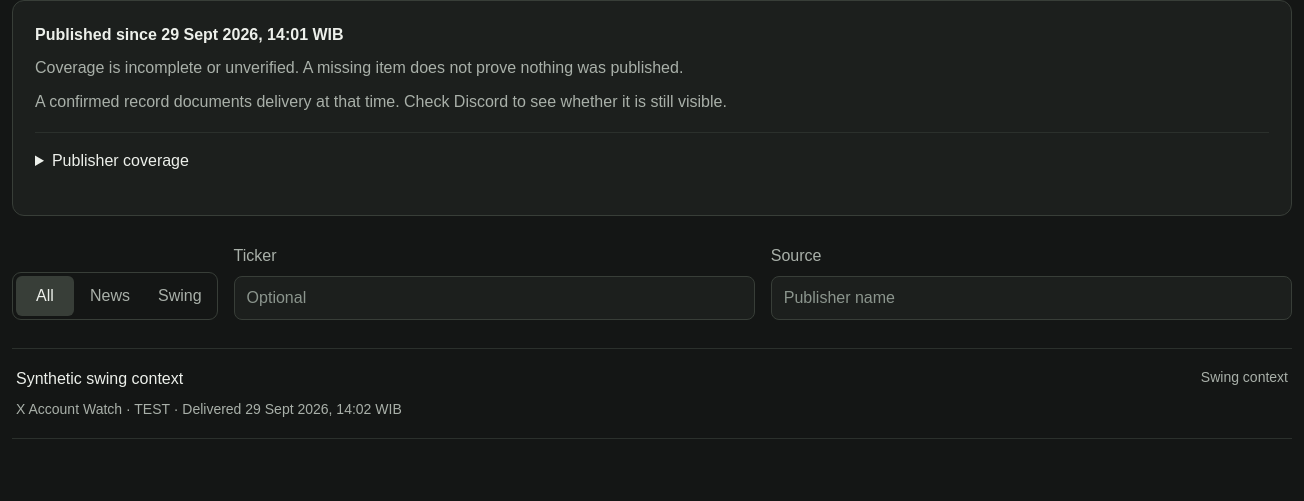
Test case: labels context separately and warns when a publisher checkpoint is unknown
Expected: the text "Swing context" is shown, [1201,367,1288,388]
Expected: the text "Coverage is incomplete or unverified" is shown, [35,59,683,76]
Click the heading "Publisher coverage".
click(120, 161)  # box [52,152,189,169]
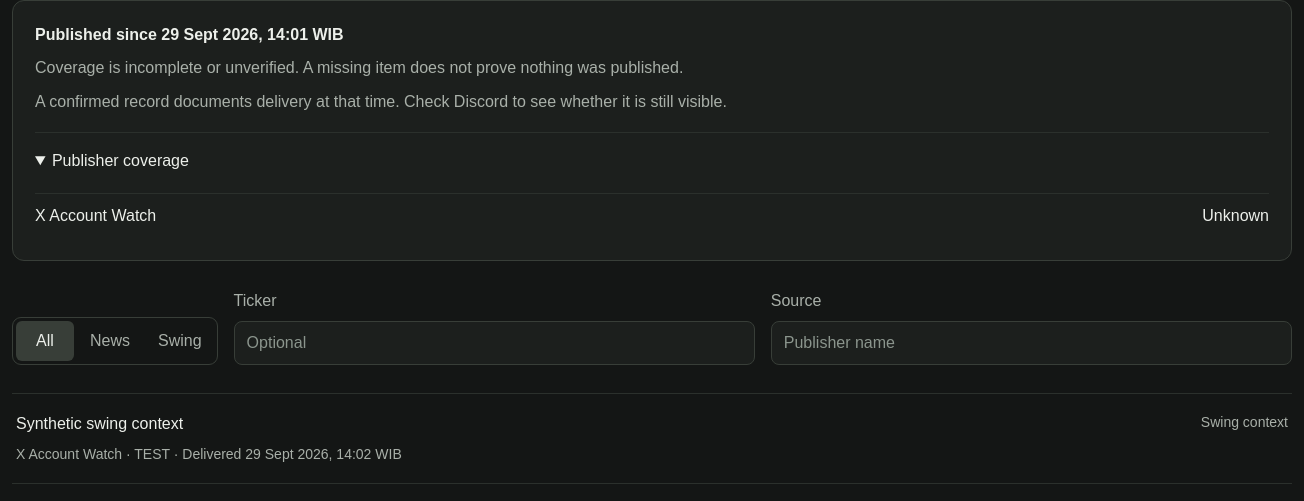
Now the text "unknown" is shown, box [1202,204,1269,228]
